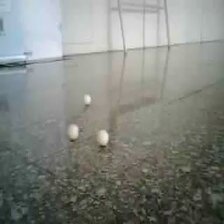tennis: (143, 87, 159, 111), (68, 71, 83, 92), (158, 65, 170, 81)
